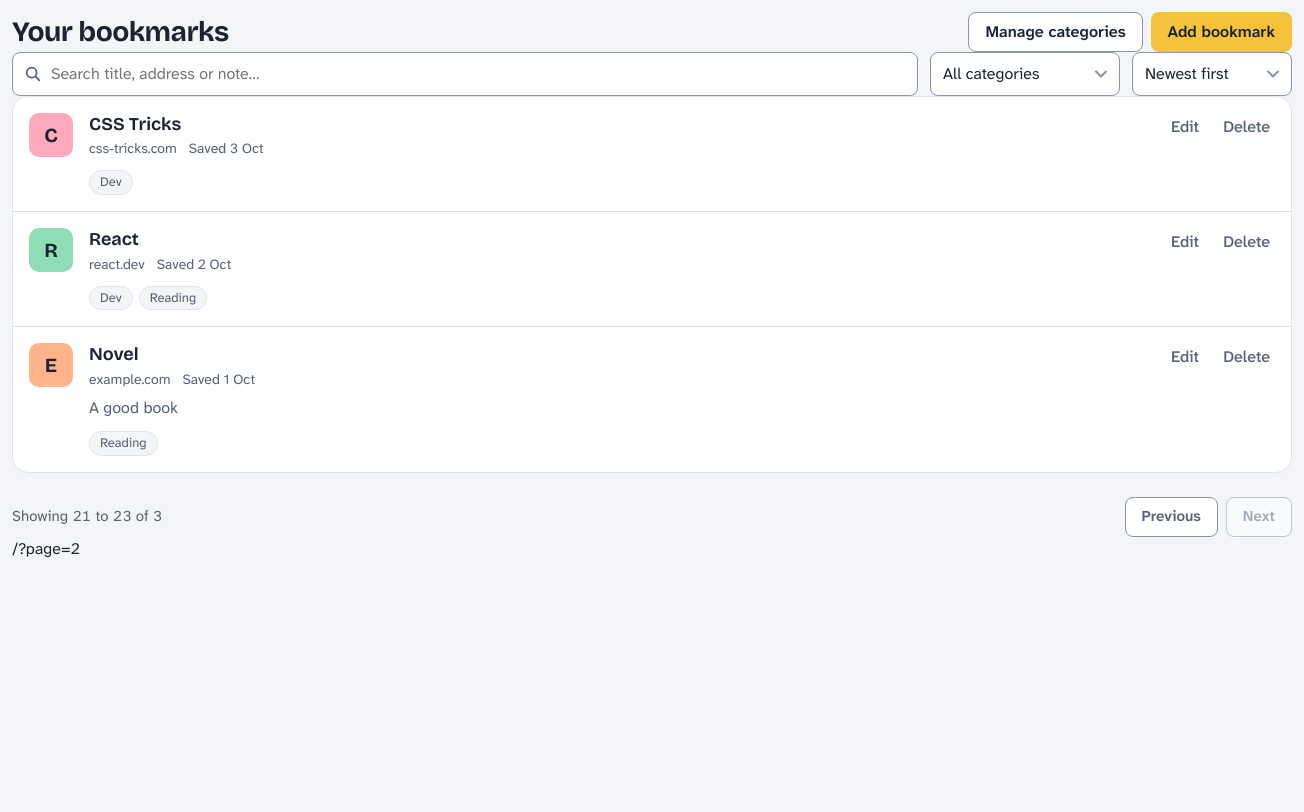
Test: search › waits until typing pauses, then searches once and goes back to page 1
Type "react" into the search field named "Search bookmarks". click: (465, 74)
box: [12,52,918,96]
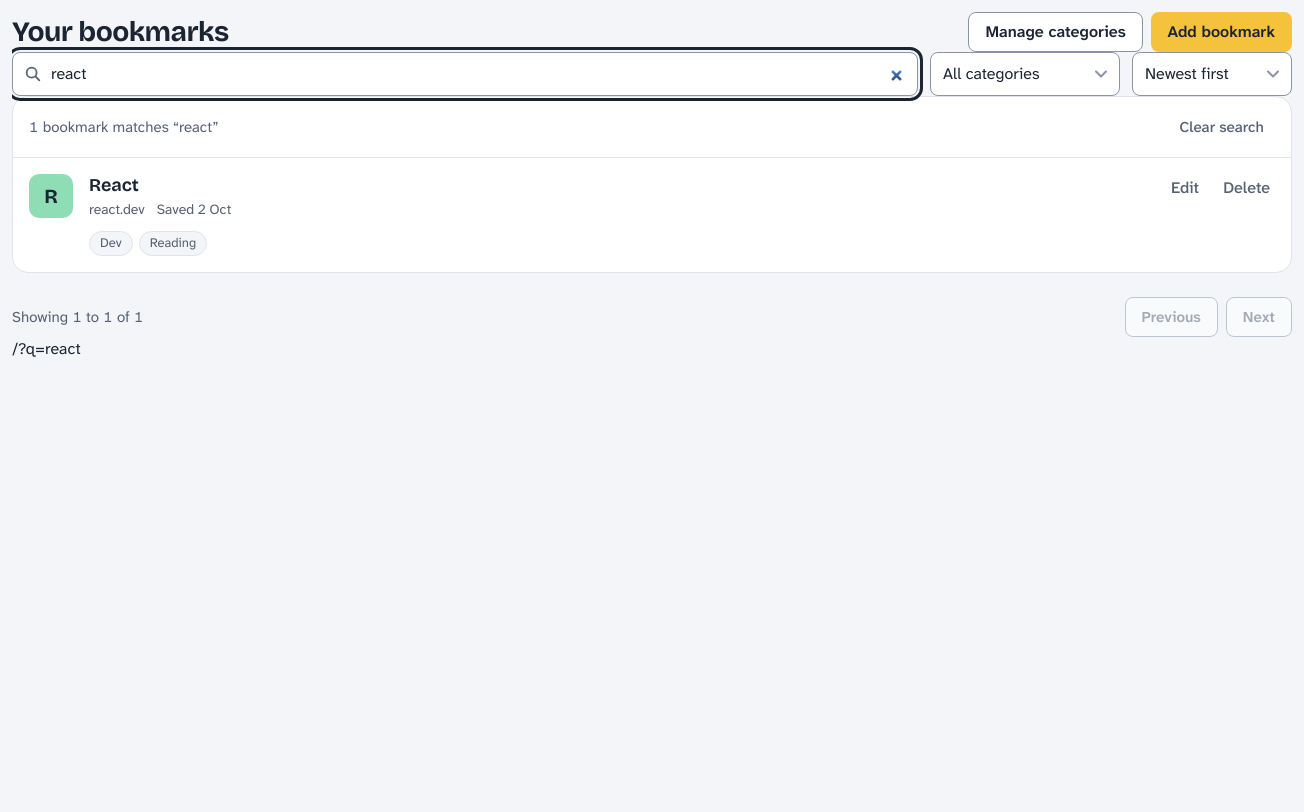
Result: the text with test id "address" reads "/?q=react" at [12,338,81,359]
Result: the text "1 bookmark matches “react”" is shown at [29,116,219,138]
Result: the link "CSS Tricks" is gone
